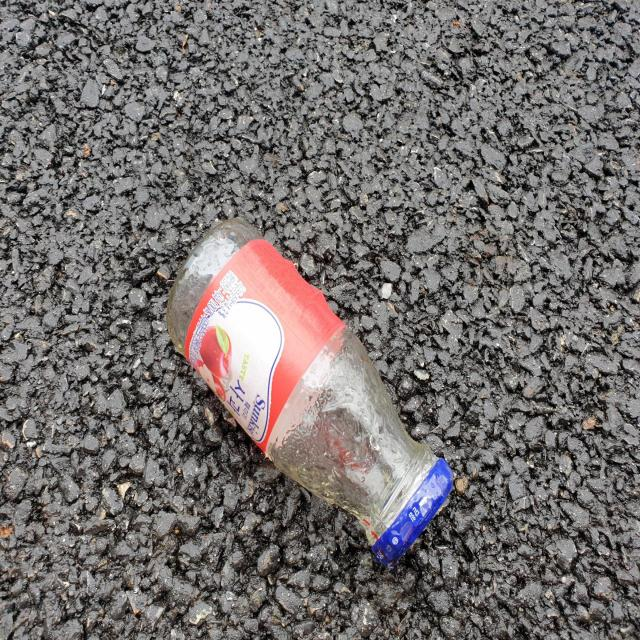glass: (166, 219, 454, 565)
